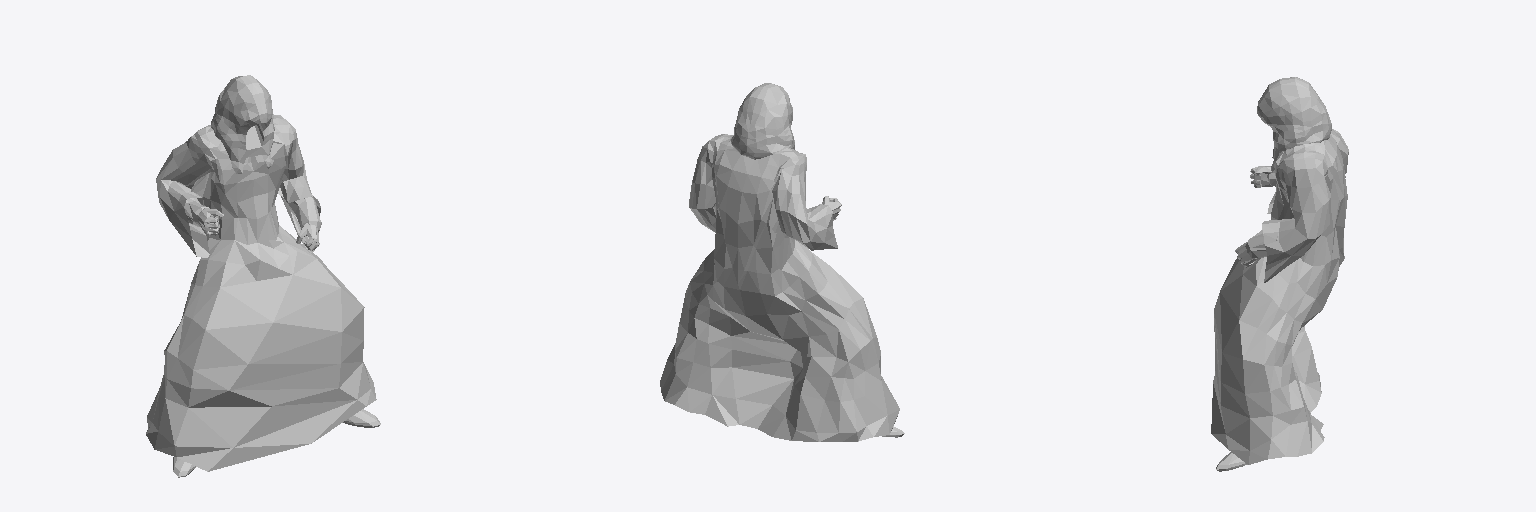
Rendered from Fellbeast_Animate_Flying_10.obj.
3 views of the same model, side by side, from view 1: azimuth 30°, elevation 25°; view 2: azimuth 150°, elevation 25°; view 3: azimuth 270°, elevation 25° (orthographic).
Visible parts, largest first — view 1: dm_nazgulrobe_ride_241108; view 2: dm_nazgulrobe_ride_241108; view 3: dm_nazgulrobe_ride_241108.
Part boxes in pixels (left/top/right/bottom): dm_nazgulrobe_ride_241108: left=146, top=75, right=380, bottom=477; dm_nazgulrobe_ride_241108: left=660, top=83, right=904, bottom=441; dm_nazgulrobe_ride_241108: left=1211, top=77, right=1348, bottom=471.
Bounding box in the file's own units: 0.4419 × 0.6648 × 0.2363.